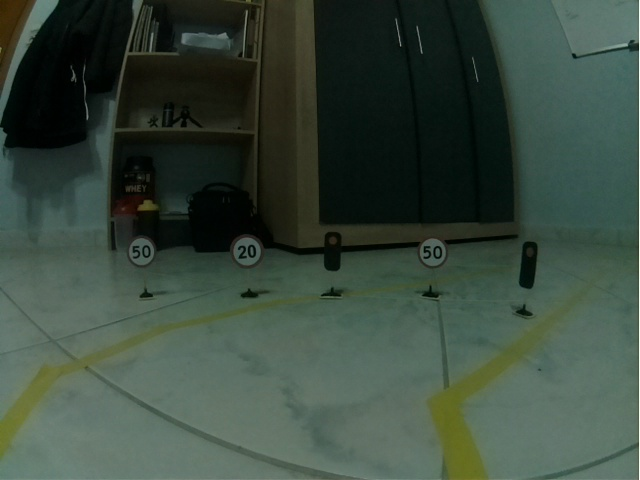Red Traffic Light: (518, 240, 538, 290), (323, 231, 342, 272)
Speed Limit 20: (230, 234, 265, 268)
Speed Limit 50: (126, 235, 157, 268), (418, 236, 448, 268)
